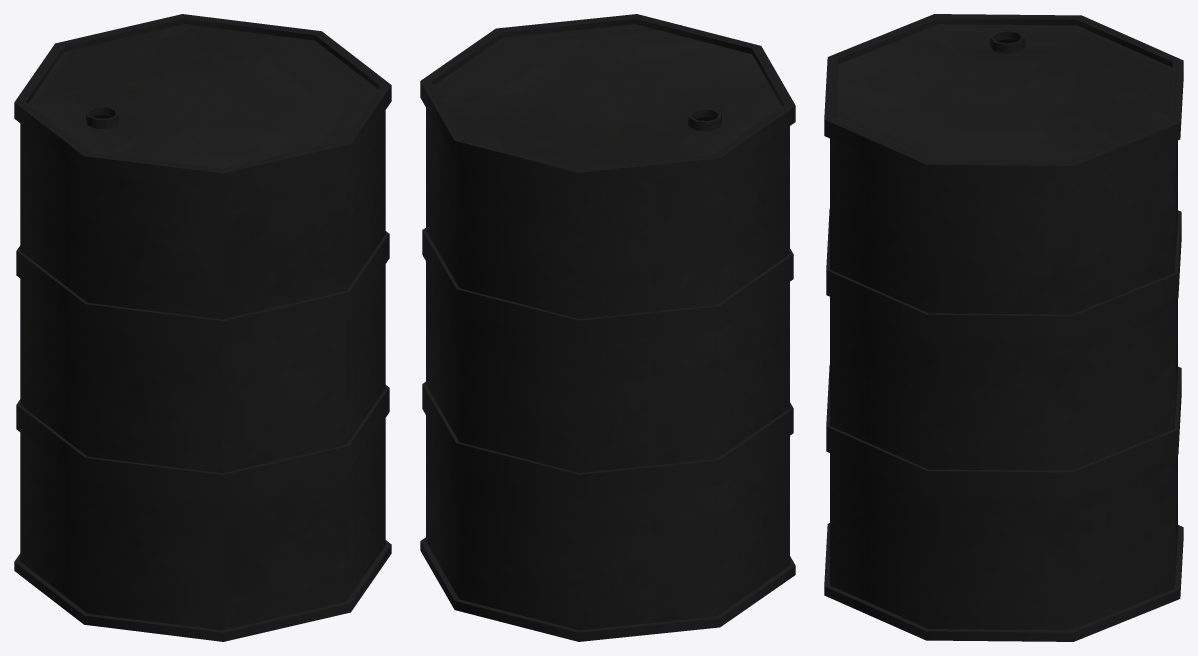
File: Barrel.fbx
3 renders of one model, left to right at view 1: azimuth 30°, elevation 25°; view 2: azimuth 150°, elevation 25°; view 3: azimuth 270°, elevation 25°, orthographic.
Parts seen in each view (by area): view 1: Barril; view 2: Barril; view 3: Barril.
Part boxes in pixels (x1,y1,x2,y2): Barril: [14, 14, 391, 641]; Barril: [420, 14, 795, 641]; Barril: [824, 14, 1183, 641].
Bounding box in the file's own units: 62.55 × 92.08 × 62.55.
Materials: 1 (1 with a texture image).
